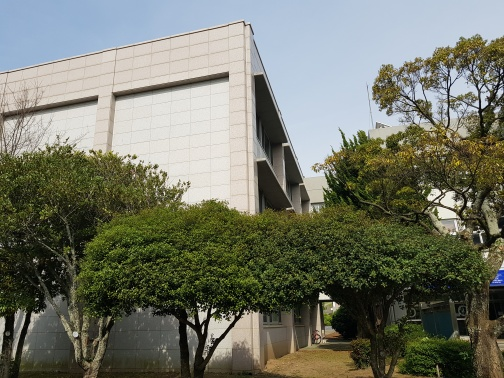College of Nursing: (8, 29, 314, 345)
